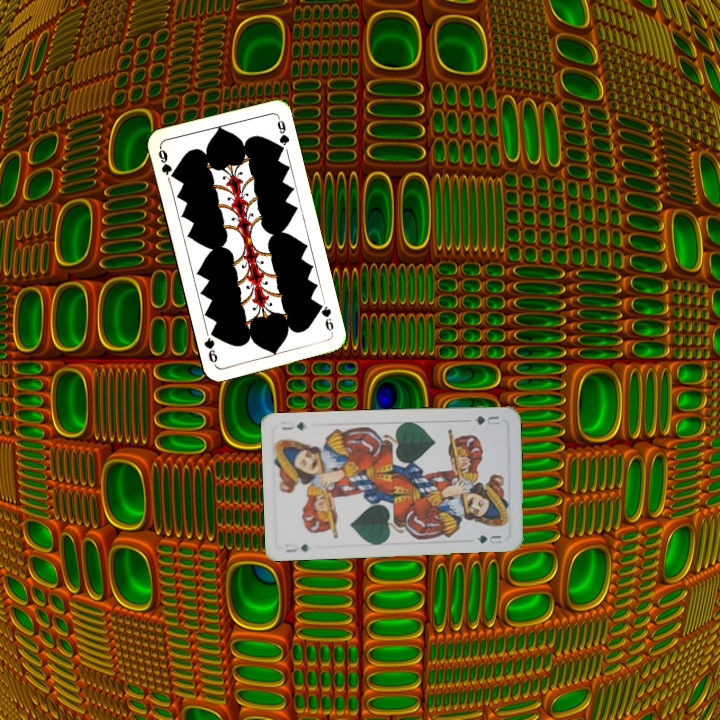G9: (154, 143, 178, 182), (314, 299, 336, 337)
GU: (470, 412, 502, 428), (282, 540, 311, 555)
